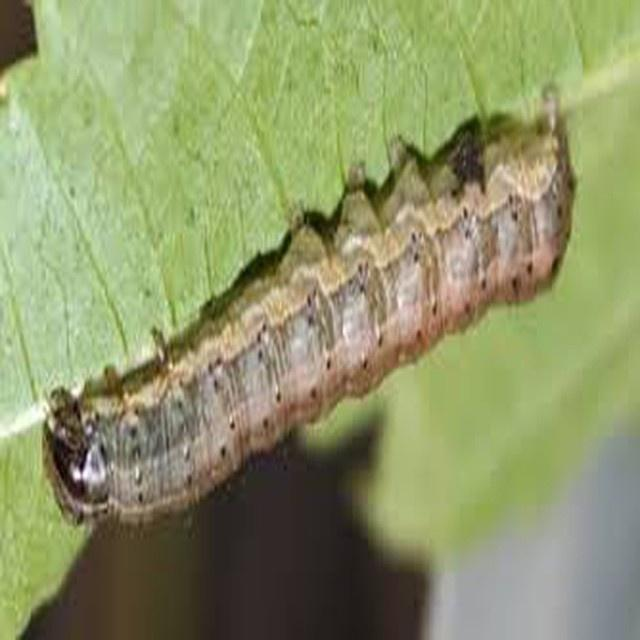gusano_cogollero: (46, 95, 576, 520)
